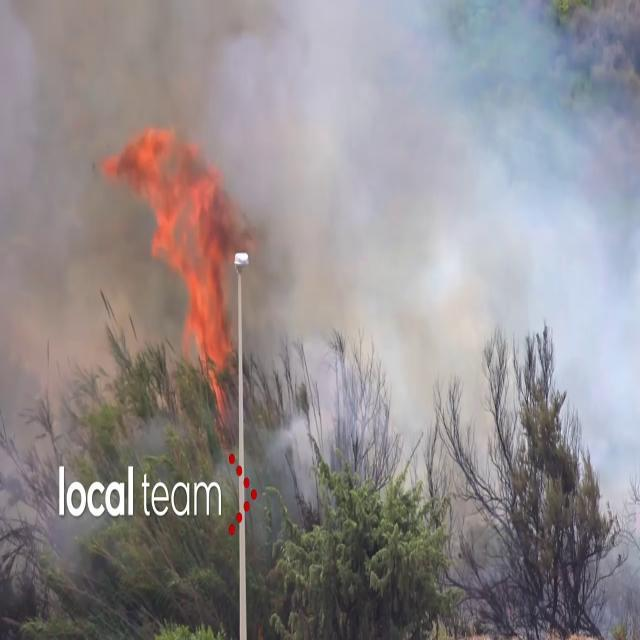Fire: (127, 110, 234, 394)
Smoke: (248, 0, 640, 577)
